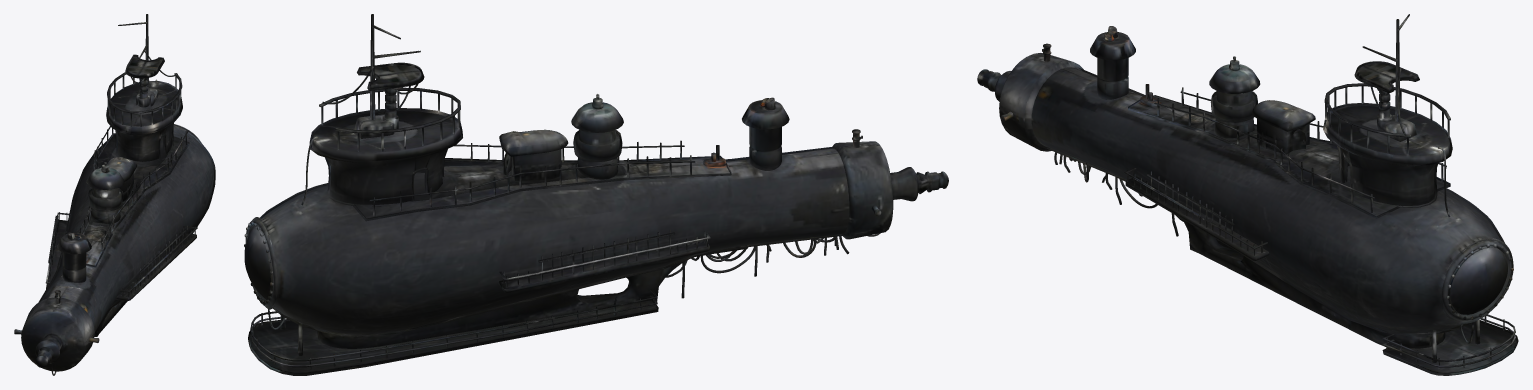
Rendered from sea_major.glb.
The picture shows the model from 3 angles, left to right: view 1: azimuth 30°, elevation 25°; view 2: azimuth 150°, elevation 25°; view 3: azimuth 270°, elevation 25°; orthographic projection. The views are drawn at different scales.
Size of the model in its own units: 1.93 by 1.28 by 2.
Materials: 1 (1 with a texture image).
